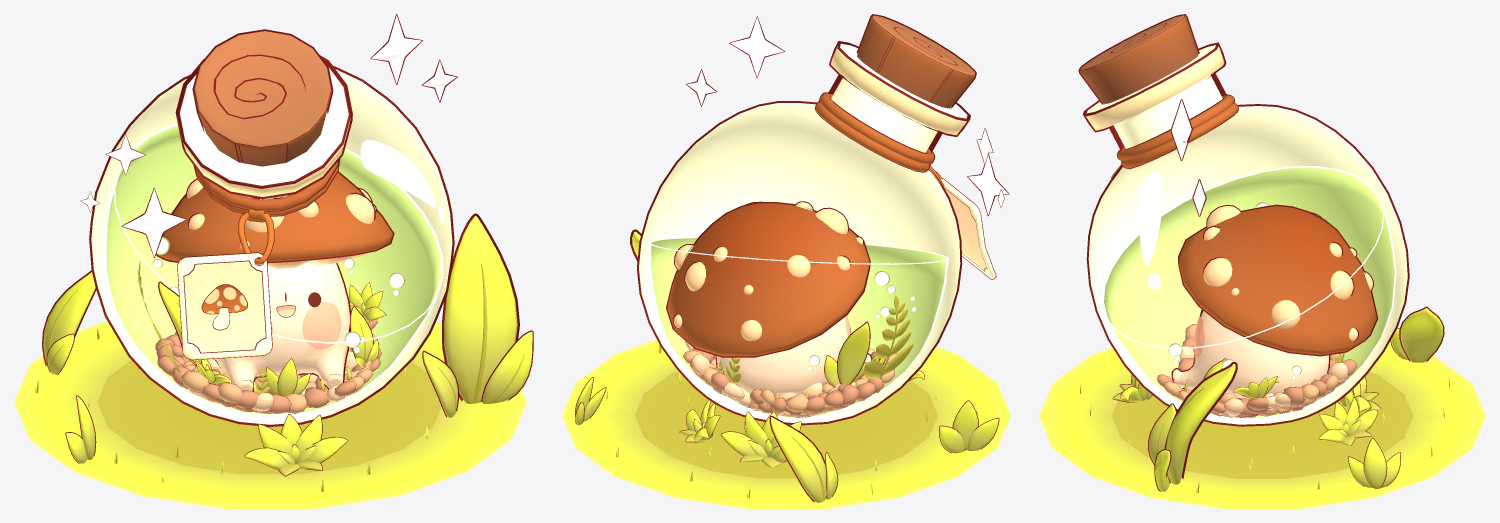
The model's file is potion-76.glb.
The picture shows the model from 3 angles, left to right: view 1: azimuth 30°, elevation 25°; view 2: azimuth 150°, elevation 25°; view 3: azimuth 270°, elevation 25°; orthographic projection. The views are drawn at different scales.
Visible parts, largest first — view 1: Bottle, Base_2, Mushroom_2, Star; view 2: Bottle, Base_2, Mushroom_2, Star; view 3: Bottle, Base_2, Mushroom_2, Star.
Boxes of the visible parts, left/top/right/bottom form: Bottle: left=89, top=29, right=454, bottom=426; Base_2: left=14, top=213, right=533, bottom=508; Mushroom_2: left=156, top=171, right=394, bottom=391; Star: left=80, top=14, right=457, bottom=258; Bottle: left=637, top=14, right=996, bottom=425; Base_2: left=562, top=229, right=1010, bottom=508; Mushroom_2: left=666, top=201, right=872, bottom=396; Star: left=686, top=16, right=1008, bottom=215; Bottle: left=1078, top=14, right=1409, bottom=426; Base_2: left=1039, top=306, right=1485, bottom=508; Mushroom_2: left=1171, top=204, right=1378, bottom=399; Star: left=1170, top=99, right=1206, bottom=216.
Bounding box in the file's own units: 8.06 × 7.52 × 8.08.
Materials: 1 (1 with a texture image).
